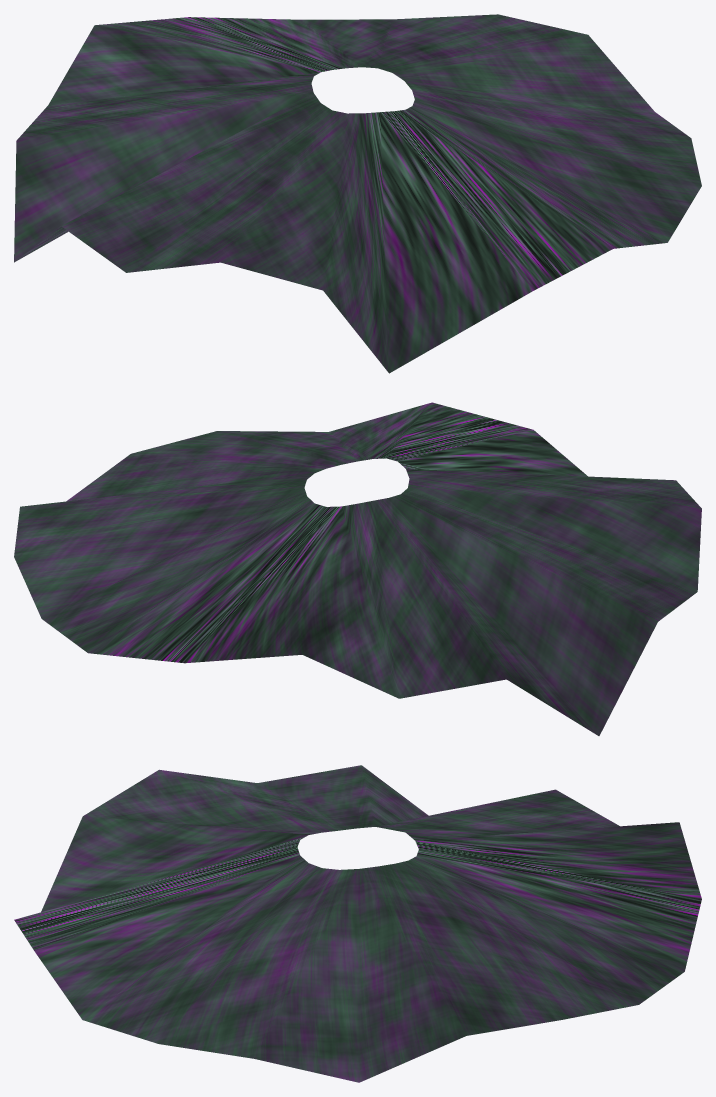
File: mushroom2.fbx
The picture shows the model from 3 angles, top to bottom: view 1: azimuth 30°, elevation 25°; view 2: azimuth 150°, elevation 25°; view 3: azimuth 270°, elevation 25°; orthographic projection.
Parts seen in each view (by area): view 1: node_id9; view 2: node_id9; view 3: node_id9.
Part boxes in pixels (<box>): node_id9: <box>14,14,701,373</box>; node_id9: <box>14,402,701,735</box>; node_id9: <box>14,765,701,1082</box>.
Size of the model in its own units: 0.8611 by 0.1988 by 0.8685.
1 material, 1 textured.
